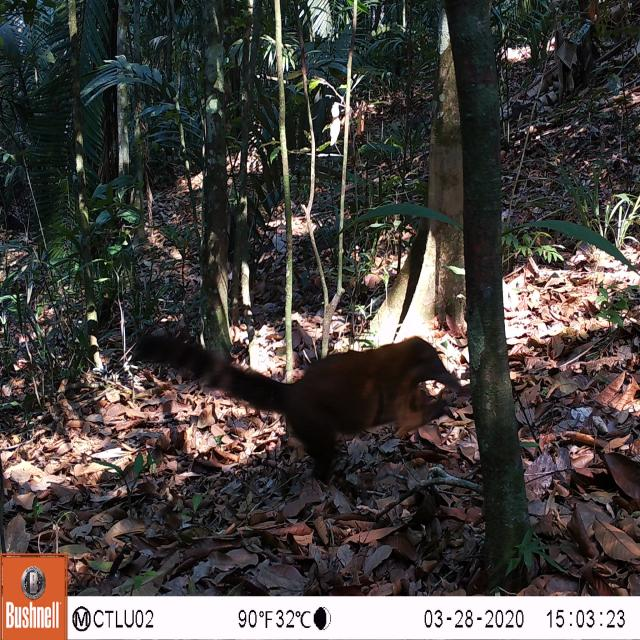South American Coati: (117, 297, 469, 497)
